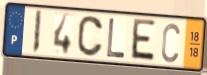4: (52, 12, 74, 57)
C: (76, 15, 105, 59), (160, 21, 182, 64)
E: (129, 17, 157, 64)
I: (31, 9, 43, 56)
L: (105, 17, 127, 60)
